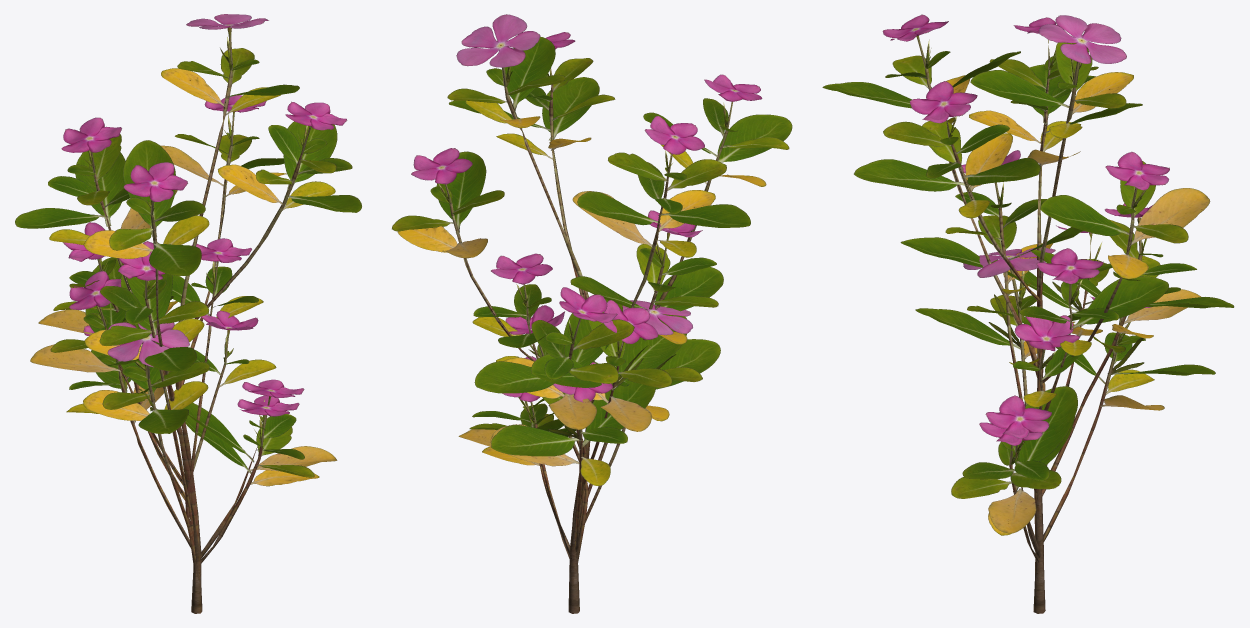
Rendered from periwinkle_plant.glb.
The picture shows the model from 3 angles, left to right: view 1: azimuth 30°, elevation 25°; view 2: azimuth 150°, elevation 25°; view 3: azimuth 270°, elevation 25°; orthographic projection. The views are drawn at different scales.
Parts seen in each view (by area): view 1: periwinkle_plant_03_LOD0, periwinkle_plant_04_LOD0, periwinkle_plant_05_LOD0, periwinkle_plant_06_LOD0; view 2: periwinkle_plant_03_LOD0, periwinkle_plant_04_LOD0, periwinkle_plant_05_LOD0, periwinkle_plant_06_LOD0; view 3: periwinkle_plant_03_LOD0, periwinkle_plant_04_LOD0, periwinkle_plant_05_LOD0, periwinkle_plant_06_LOD0.
Part boxes in pixels (left/top/right/bottom): periwinkle_plant_03_LOD0: left=15, top=14, right=361, bottom=613; periwinkle_plant_04_LOD0: left=38, top=95, right=319, bottom=581; periwinkle_plant_05_LOD0: left=66, top=238, right=263, bottom=548; periwinkle_plant_06_LOD0: left=83, top=310, right=276, bottom=571; periwinkle_plant_03_LOD0: left=447, top=14, right=750, bottom=613; periwinkle_plant_04_LOD0: left=392, top=74, right=792, bottom=577; periwinkle_plant_05_LOD0: left=472, top=210, right=723, bottom=551; periwinkle_plant_06_LOD0: left=496, top=300, right=720, bottom=571; periwinkle_plant_03_LOD0: left=854, top=15, right=1180, bottom=613; periwinkle_plant_04_LOD0: left=822, top=14, right=1234, bottom=583; periwinkle_plant_05_LOD0: left=900, top=150, right=1215, bottom=541; periwinkle_plant_06_LOD0: left=915, top=247, right=1087, bottom=409.
Size of the model in its own units: 0.1711 by 0.3002 by 0.1842.
Materials: 1 (1 with a texture image).
